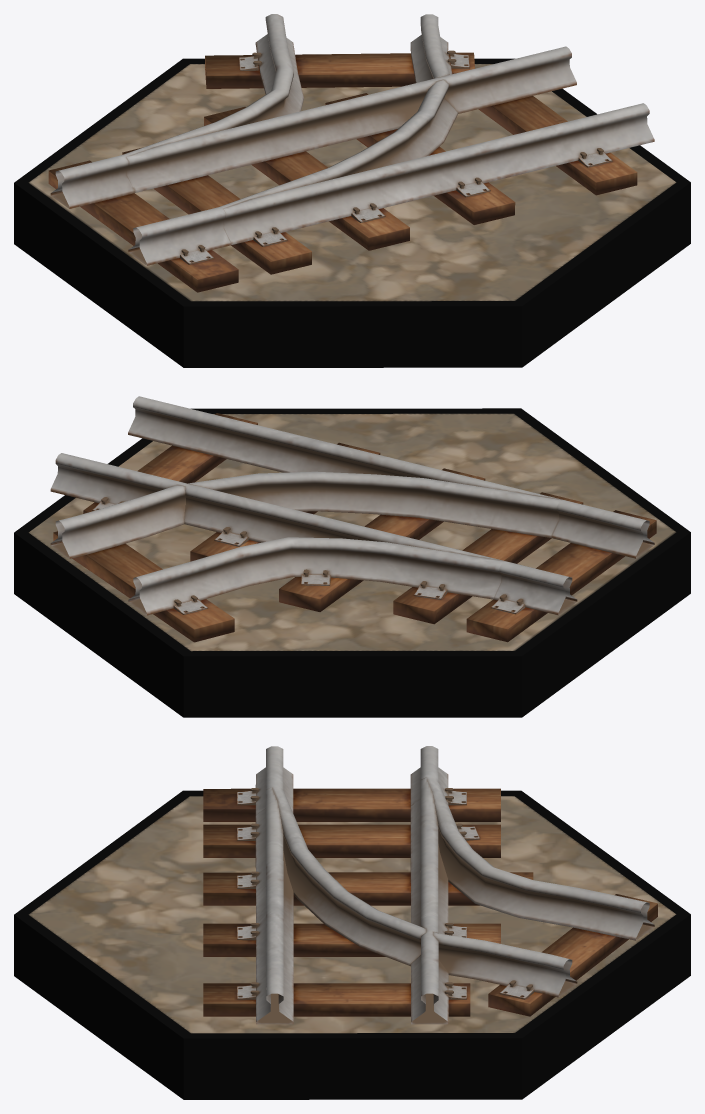
File: trilho_bifurcado.fbx
3 renders of one model, top to bottom at view 1: azimuth 30°, elevation 25°; view 2: azimuth 150°, elevation 25°; view 3: azimuth 270°, elevation 25°, orthographic.
Visible parts, largest first — view 1: trilho_bifurcado; view 2: trilho_bifurcado; view 3: trilho_bifurcado.
Part boxes in pixels (x1,y1,x2,y2): trilho_bifurcado: [14, 14, 690, 367]; trilho_bifurcado: [14, 396, 690, 717]; trilho_bifurcado: [14, 746, 690, 1099].
Size of the model in its own units: 173 by 34.7 by 200.
